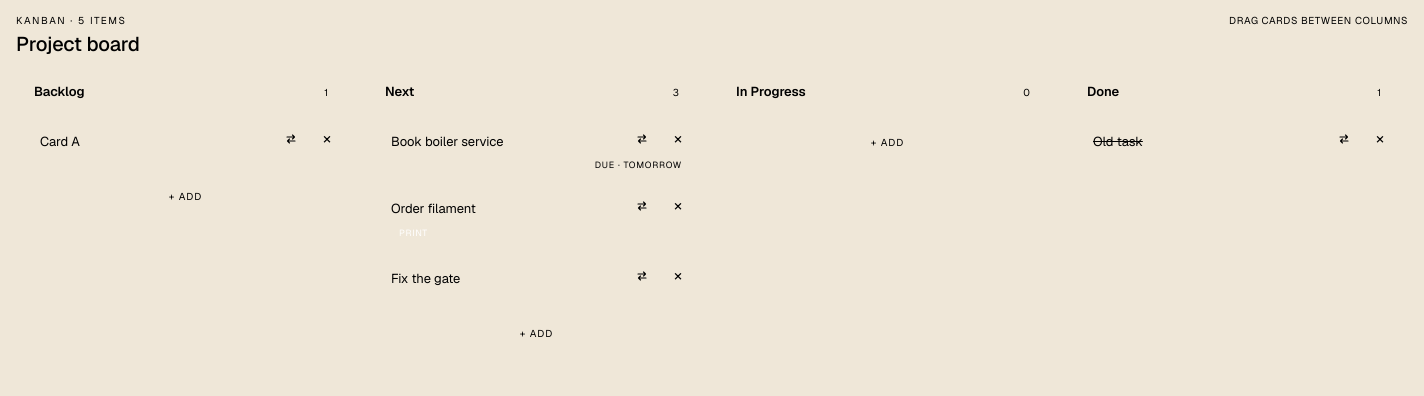
Test: D16: a cross-list move carries the task as HA holds it now › keeps a rename, a tag and a due date made elsewhere, and draws them
Click the button named "Move Book boiler service" at point(642, 139), box [630,127,654,151]
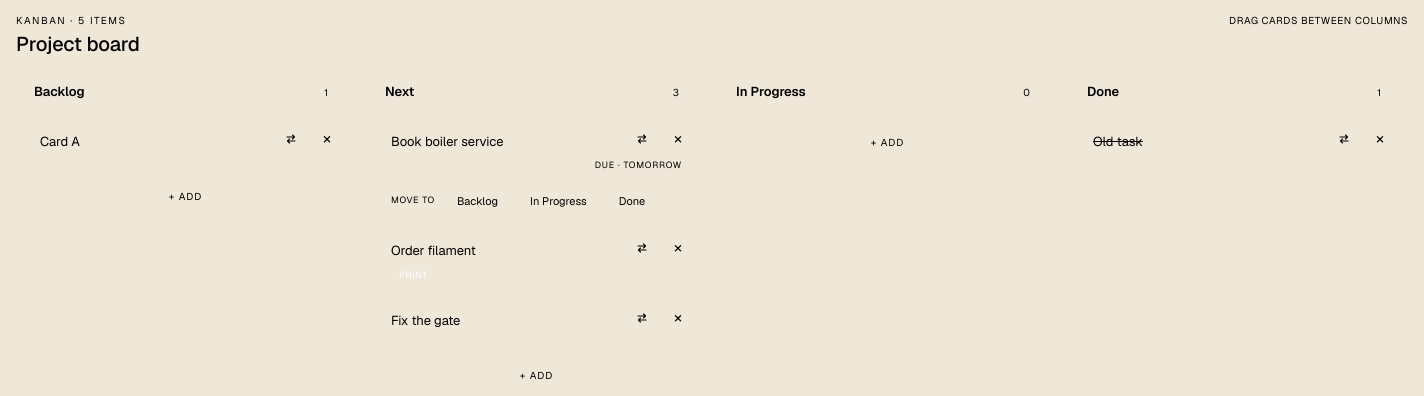
Click the button "In Progress" at point(558, 201), box [518,188,599,214]
Wait 1000 ms
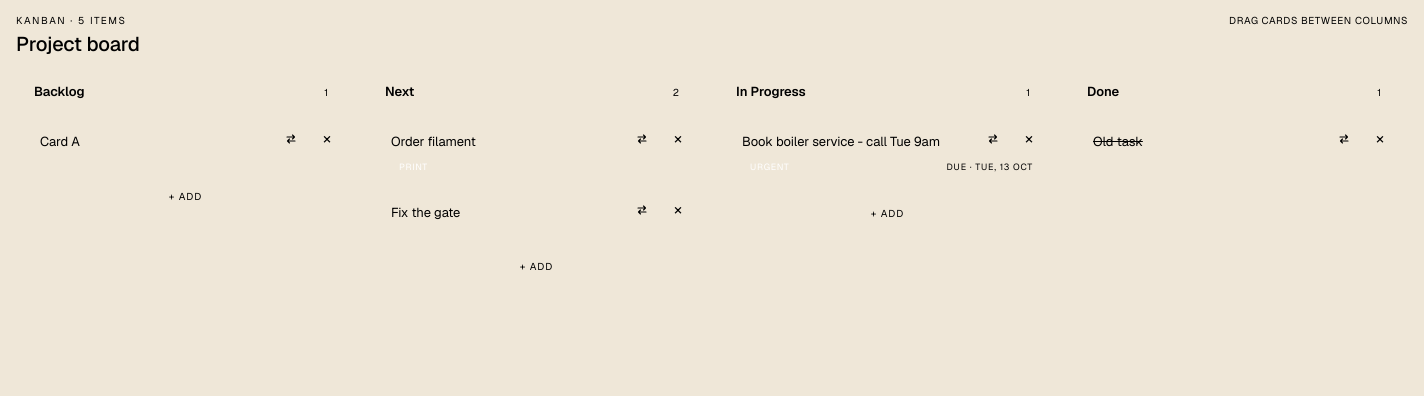
Now the text "urgent" is shown, box [750,160,790,172]
